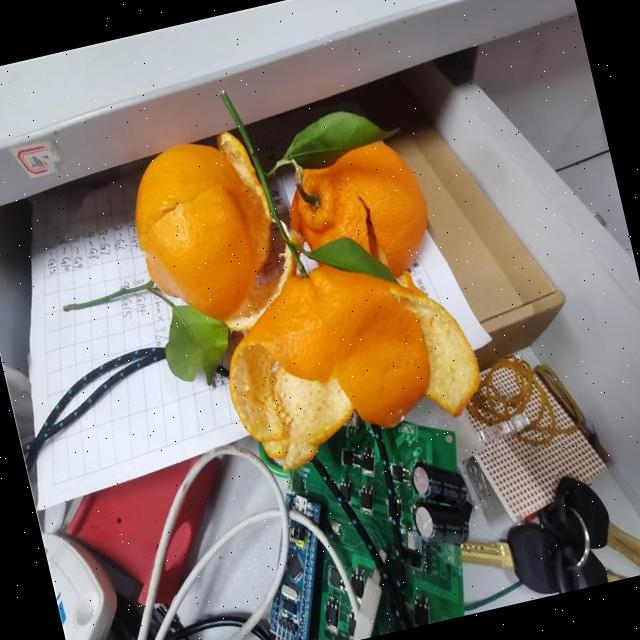orange-peel: (116, 86, 492, 492), (116, 125, 290, 334)
